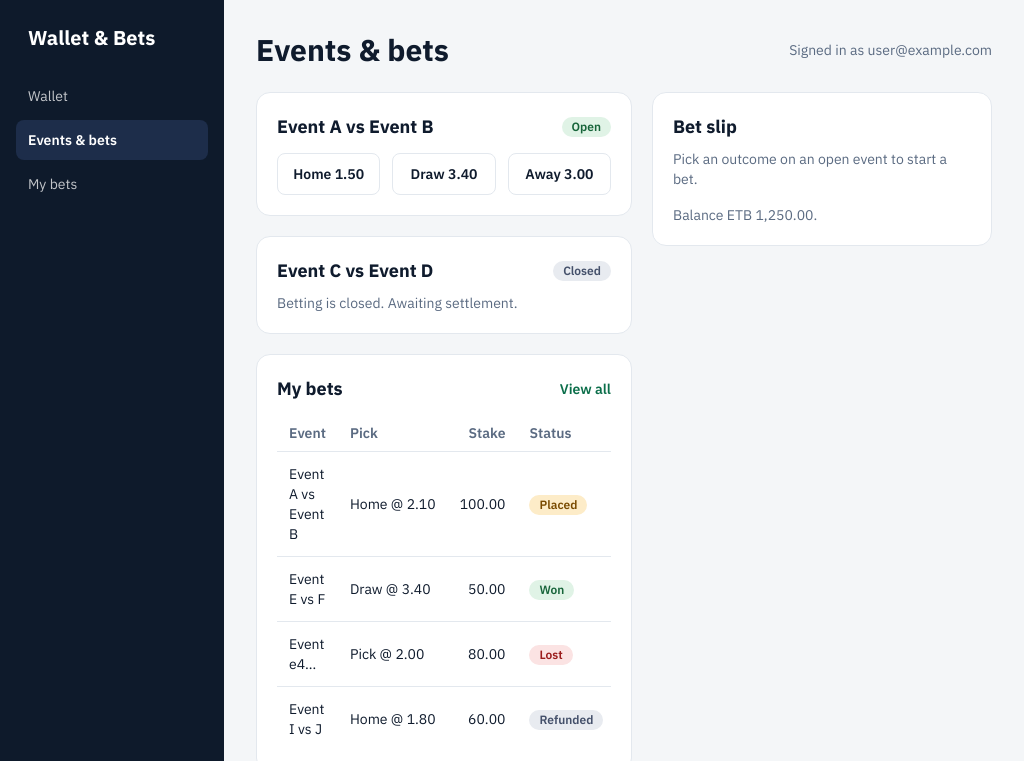
Test: Events & bets page › rounds the potential payout down like the server
Click the button "Home 1.50".
click(329, 174)  # box [277, 153, 380, 195]
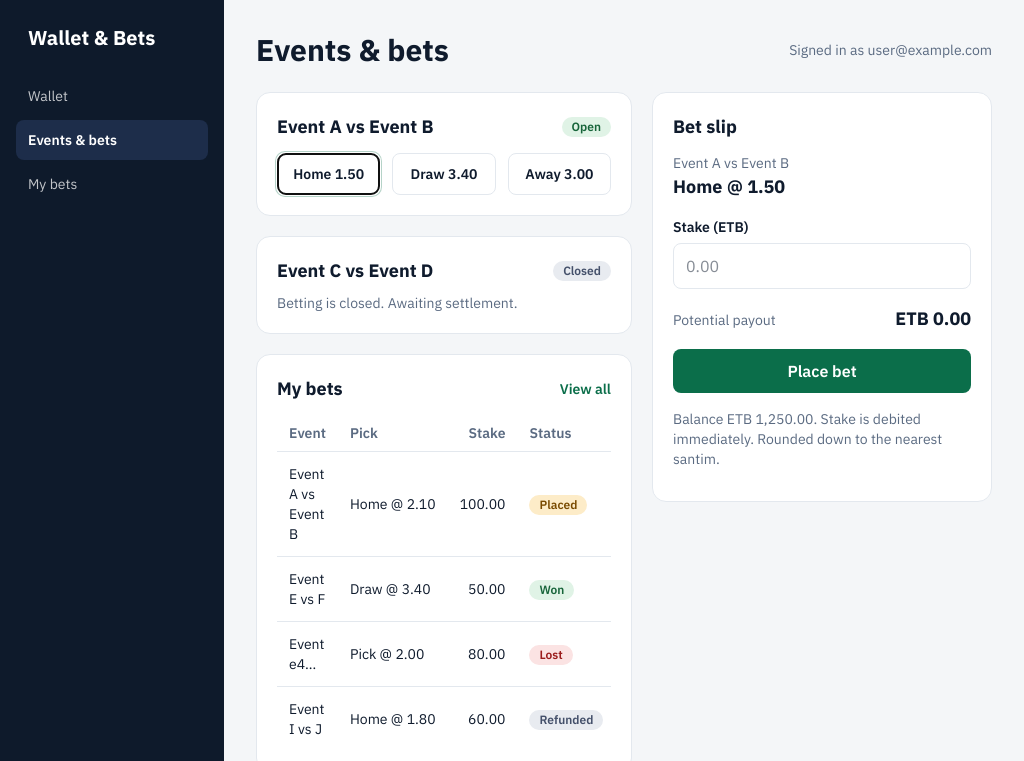
Type "3.33" into the field labelled "Stake (ETB)".
click(822, 266); type("3.33")  # box [673, 243, 971, 289]
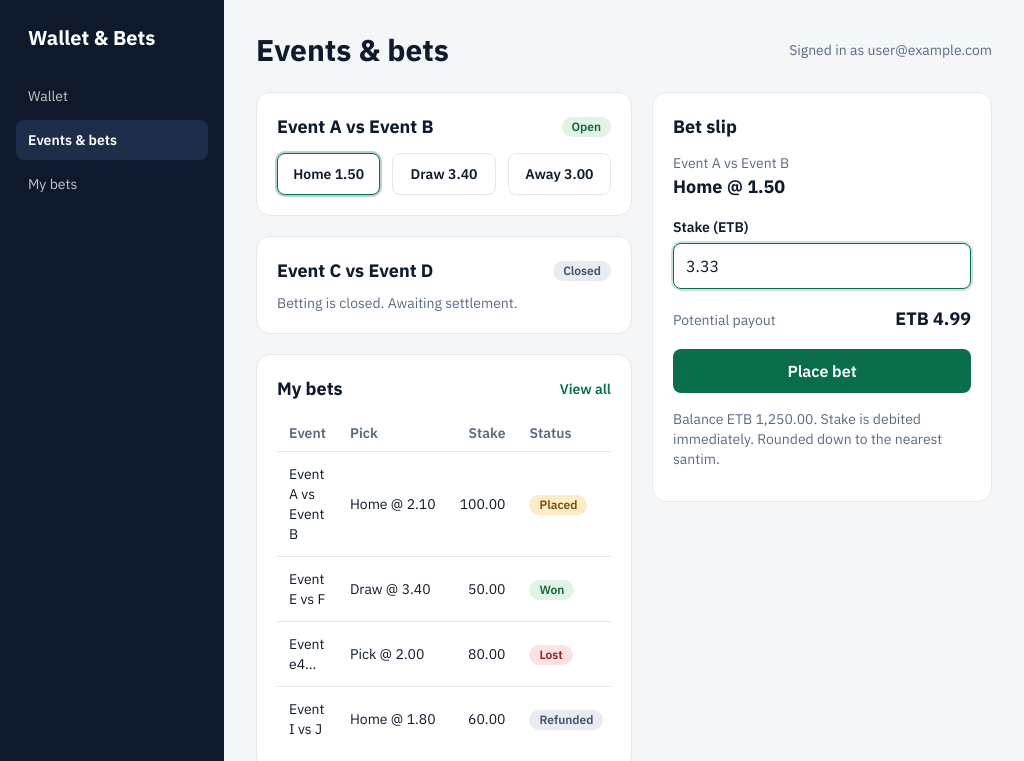
Expected: the text "ETB 4.99" is shown, [895, 305, 971, 333]
